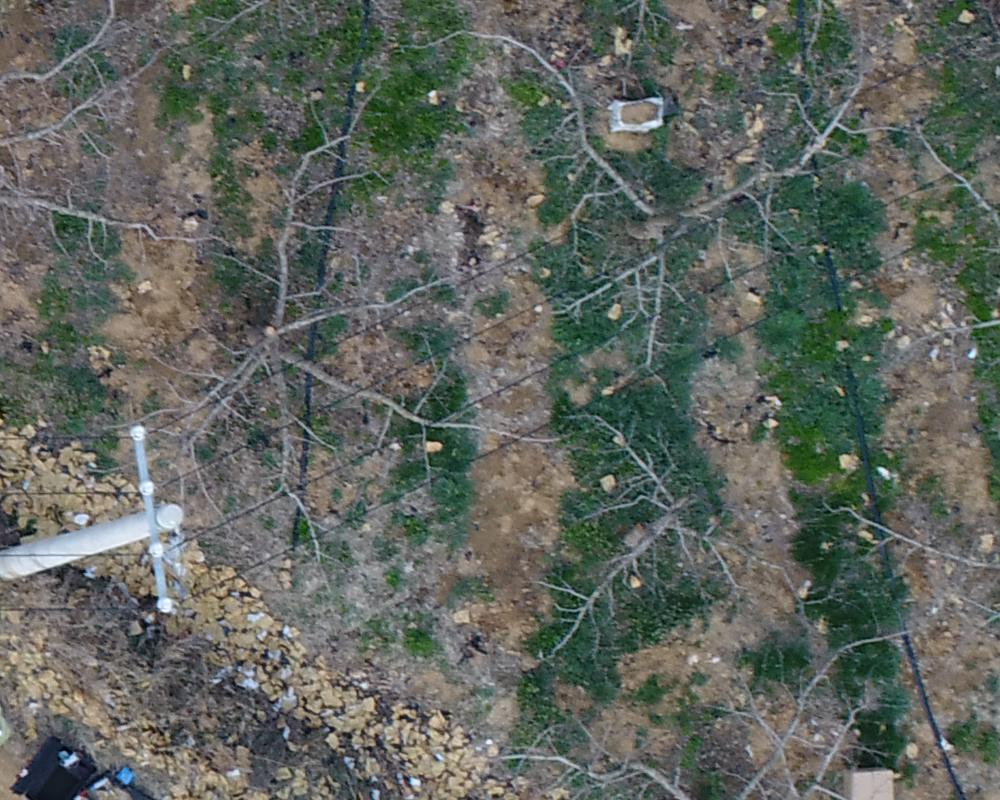apple: (145, 96, 547, 512), (467, 30, 845, 404), (521, 394, 780, 659), (479, 634, 884, 790)
